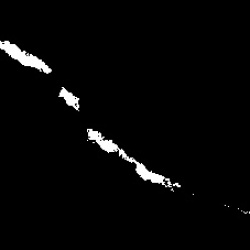crack: (86, 129, 180, 189), (3, 41, 51, 73), (59, 87, 80, 110)
